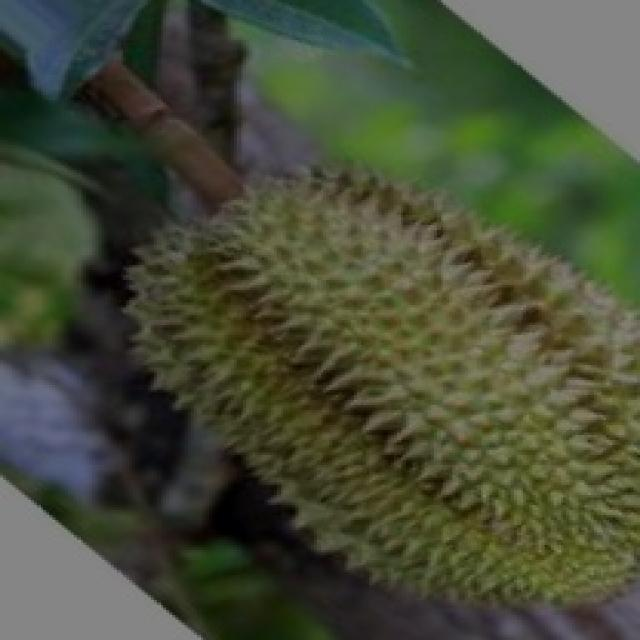fruit: (62, 122, 424, 562), (252, 258, 640, 638)
